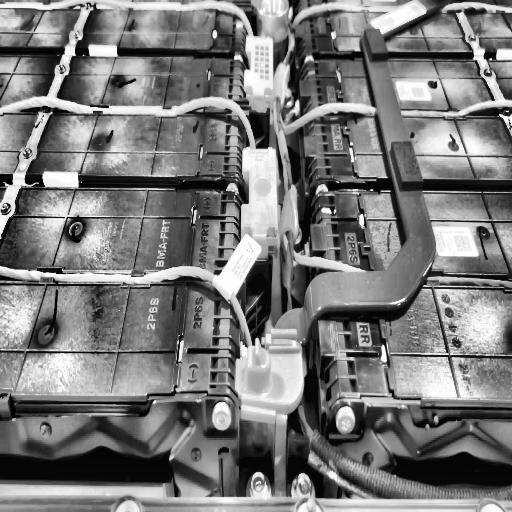busbar: (236, 0, 457, 413)
high_volt_cable: (270, 0, 512, 297), (0, 261, 257, 354), (0, 89, 257, 149), (0, 0, 259, 44)
low_volt_cable: (282, 244, 512, 512)
nut: (212, 402, 233, 433), (336, 406, 354, 437), (292, 473, 312, 500), (250, 470, 268, 500)
